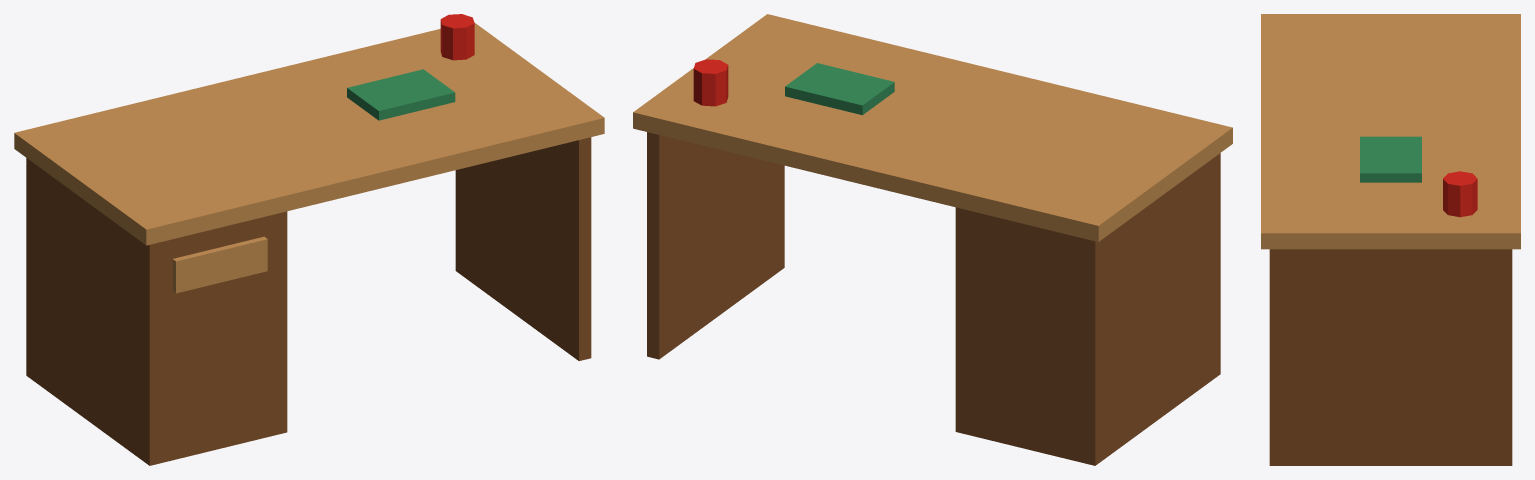
Rendered from teacher_desk.fbx.
3 renders of one model, left to right at view 1: azimuth 30°, elevation 25°; view 2: azimuth 150°, elevation 25°; view 3: azimuth 270°, elevation 25°, orthographic. The views are drawn at different scales.
Parts seen in each view (by area): view 1: teacher_desk; view 2: teacher_desk; view 3: teacher_desk.
Part boxes in pixels (box(x1,y1,x2,y2)): teacher_desk: box(14, 14, 604, 465); teacher_desk: box(633, 14, 1232, 465); teacher_desk: box(1261, 14, 1520, 465).
Size of the model in its own units: 1.5 by 0.86 by 0.75.
